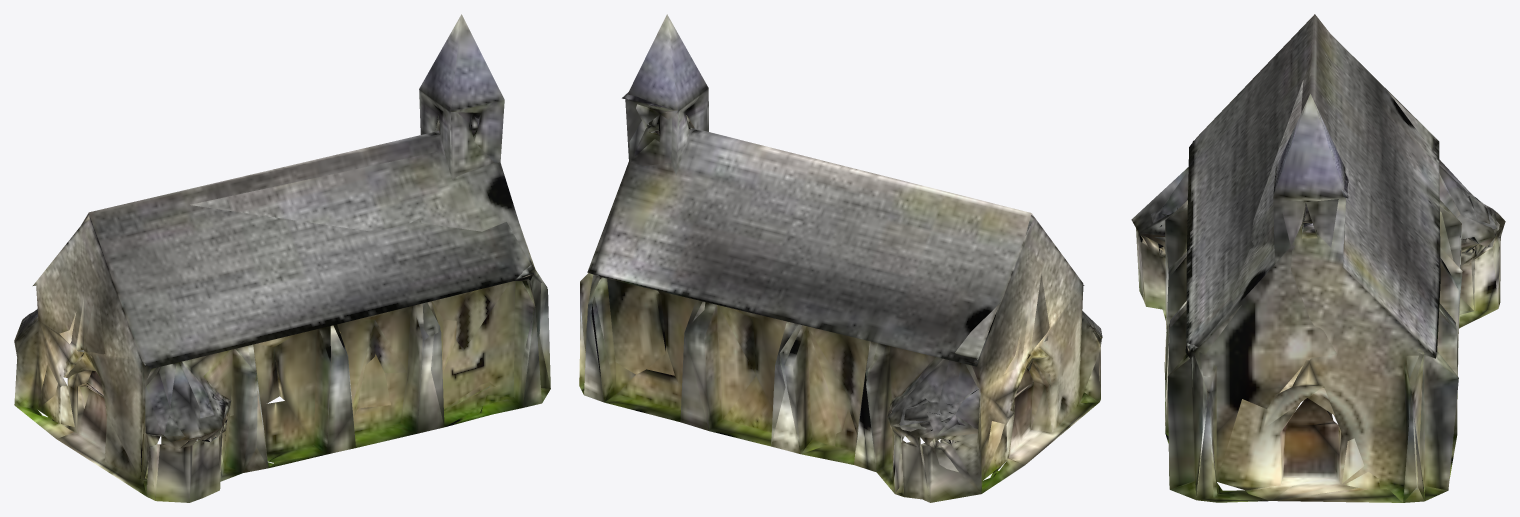
Rendered from ga3_church_lod2.glb.
3 renders of one model, left to right at view 1: azimuth 30°, elevation 25°; view 2: azimuth 150°, elevation 25°; view 3: azimuth 270°, elevation 25°, orthographic. The views are drawn at different scales.
Parts seen in each view (by area): view 1: ga3_church_lod2; view 2: ga3_church_lod2; view 3: ga3_church_lod2.
Part boxes in pixels (bbox=[...]): ga3_church_lod2: bbox=[14, 14, 550, 502]; ga3_church_lod2: bbox=[579, 14, 1102, 502]; ga3_church_lod2: bbox=[1131, 14, 1505, 502].
Bounding box in the file's own units: 22 × 17.24 × 15.02.
Materials: 1 (1 with a texture image).
